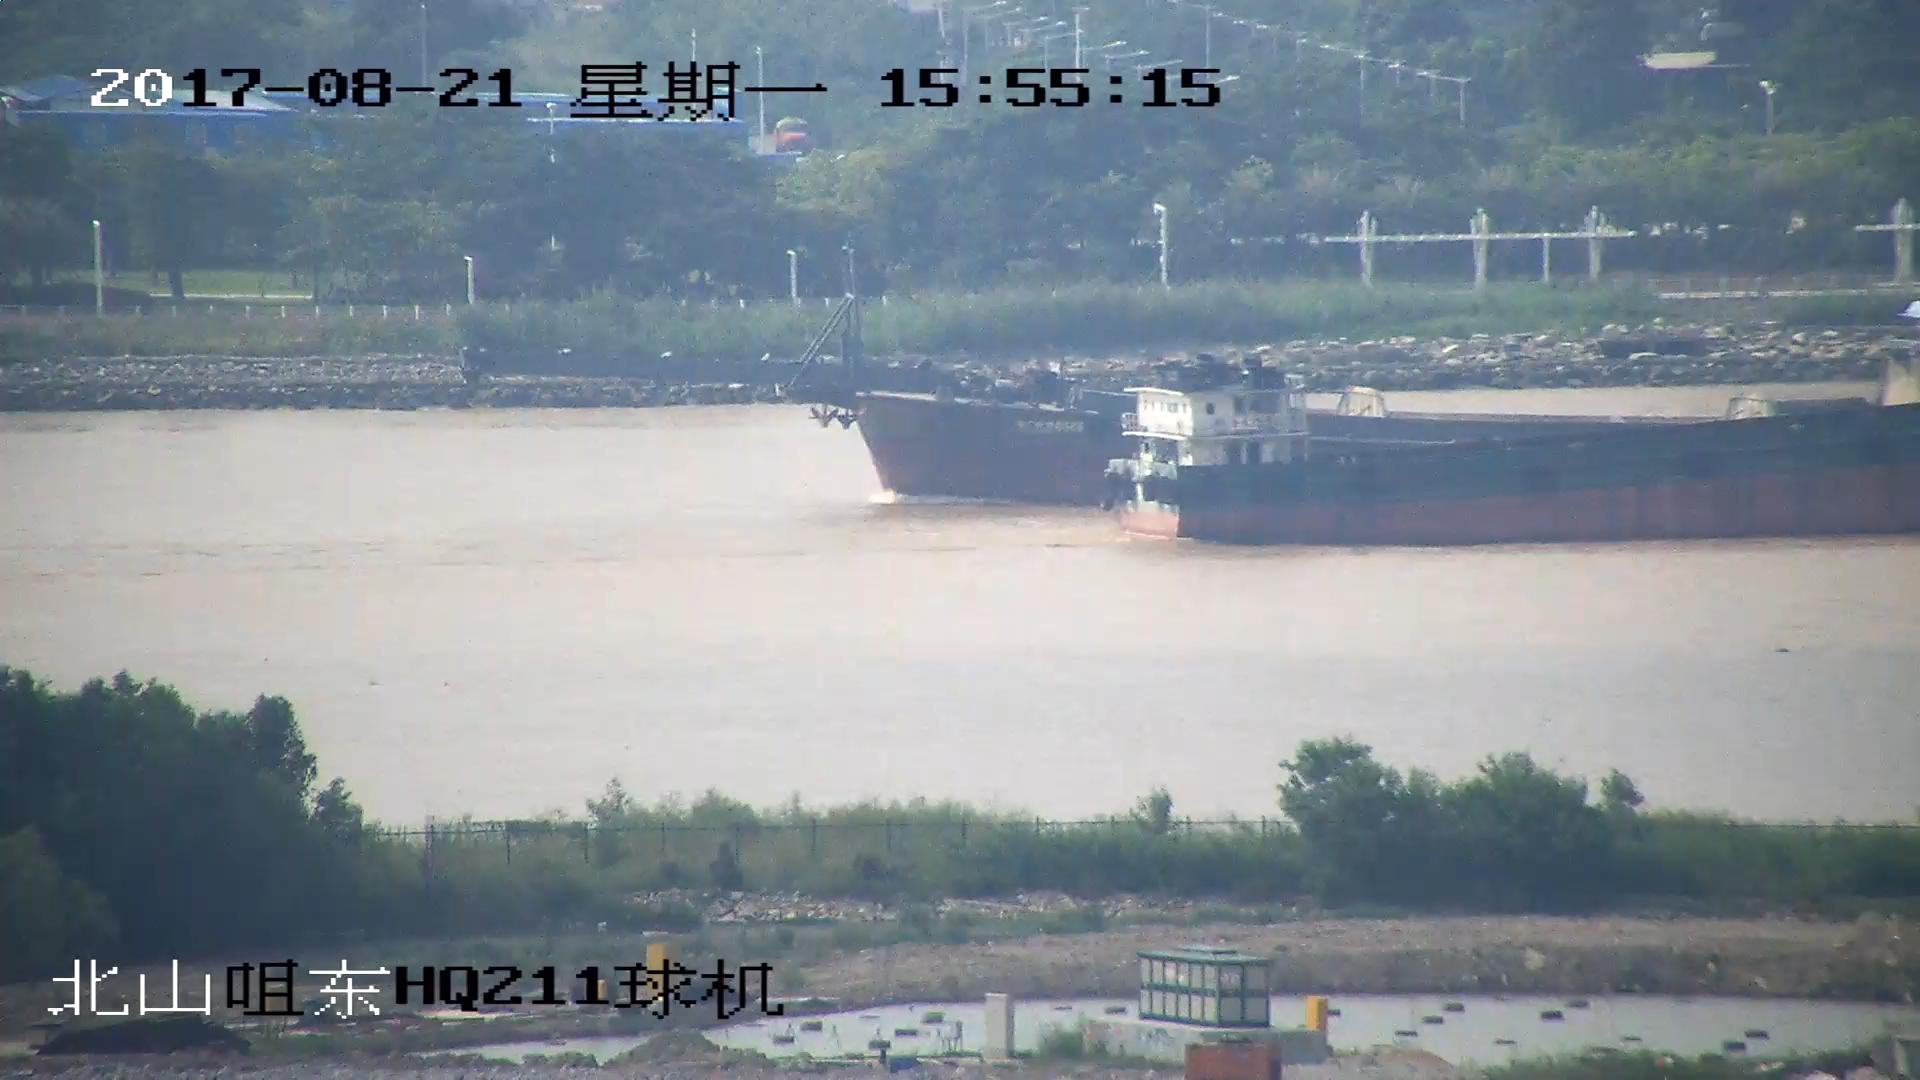bulk cargo carrier: (465, 246, 1140, 505)
general cargo ship: (1106, 342, 1920, 547)
